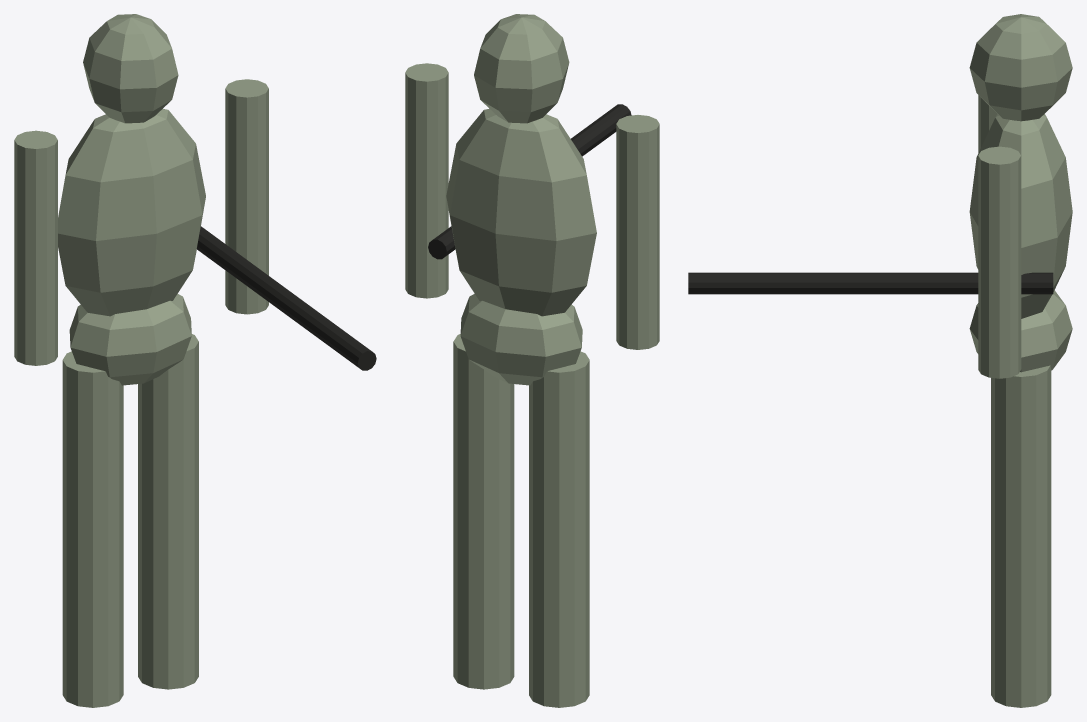
File: tow_team.glb
3 renders of one model, left to right at view 1: azimuth 30°, elevation 25°; view 2: azimuth 150°, elevation 25°; view 3: azimuth 270°, elevation 25°, orthographic.
Parts seen in each view (by area): view 1: Torso, Leg_L, Leg_R, Arm_L, Arm_R, Head, Pelvis, Rifle; view 2: Torso, Leg_L, Leg_R, Arm_L, Arm_R, Head, Pelvis, Rifle; view 3: Leg_R, Arm_R, Torso, Head, Rifle, Pelvis.
Part boxes in pixels (x1,y1,x2,y2): Torso: (58, 109, 205, 316); Leg_L: (62, 351, 123, 707); Leg_R: (138, 334, 198, 689); Arm_L: (14, 130, 57, 365); Arm_R: (225, 79, 268, 314); Head: (83, 14, 178, 123); Pelvis: (69, 294, 191, 385); Rifle: (197, 226, 376, 370); Torso: (446, 108, 596, 316); Leg_L: (529, 351, 589, 707); Leg_R: (453, 334, 514, 689); Arm_L: (616, 115, 659, 349); Arm_R: (405, 63, 448, 298); Head: (474, 14, 569, 123); Pelvis: (460, 293, 582, 385); Rifle: (428, 104, 631, 259); Leg_R: (991, 365, 1051, 707); Arm_R: (978, 146, 1021, 378); Torso: (969, 114, 1072, 318); Head: (969, 14, 1072, 121); Rifle: (688, 272, 1053, 294); Pelvis: (969, 290, 1072, 372).
Size of the model in its own units: 0.66 by 1.7 by 0.895.
